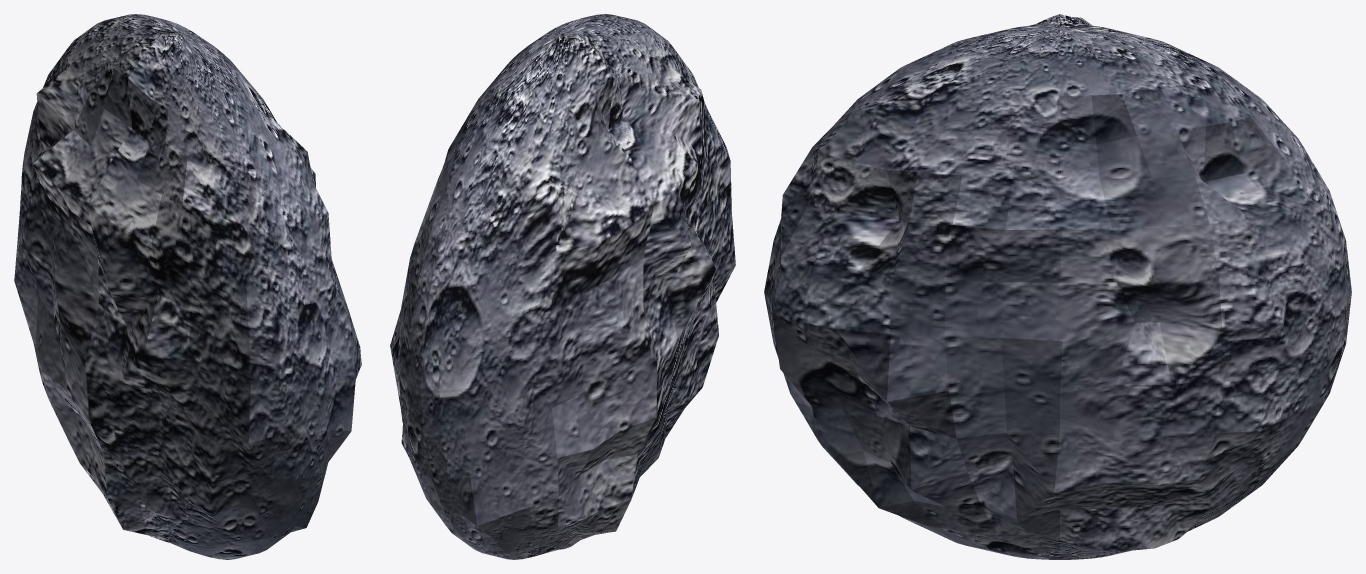
The model's file is AsteroideApolo.gltf.
3 renders of one model, left to right at view 1: azimuth 30°, elevation 25°; view 2: azimuth 150°, elevation 25°; view 3: azimuth 270°, elevation 25°, orthographic. The views are drawn at different scales.
Parts seen in each view (by area): view 1: Sphere; view 2: Sphere; view 3: Sphere.
Part boxes in pixels (<box>): Sphere: <box>14,14,361,559</box>; Sphere: <box>390,14,735,559</box>; Sphere: <box>764,14,1351,559</box>.
Bounding box in the file's own units: 0.8247 × 2.02 × 2.01.
Materials: 1 (1 with a texture image).
